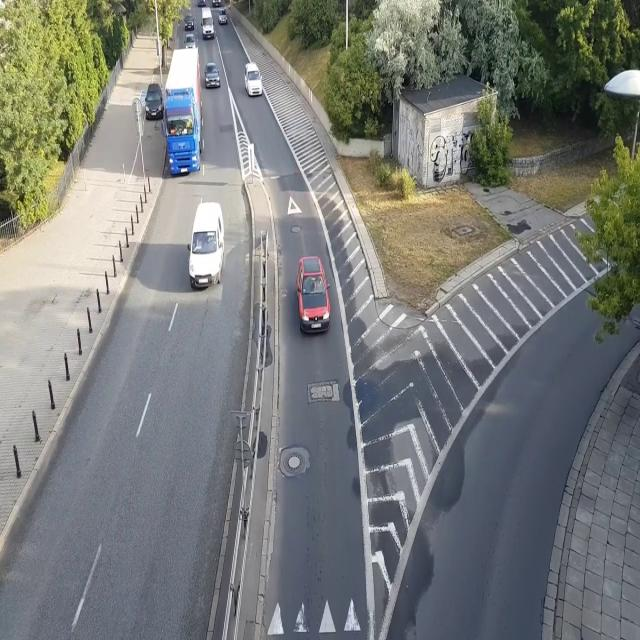car: (295, 258, 332, 334), (144, 84, 164, 119), (203, 61, 220, 88), (183, 35, 197, 49), (184, 14, 194, 32), (218, 9, 228, 26)
truck: (160, 47, 204, 175)
van: (186, 199, 226, 289), (244, 62, 263, 100), (200, 6, 214, 38)
